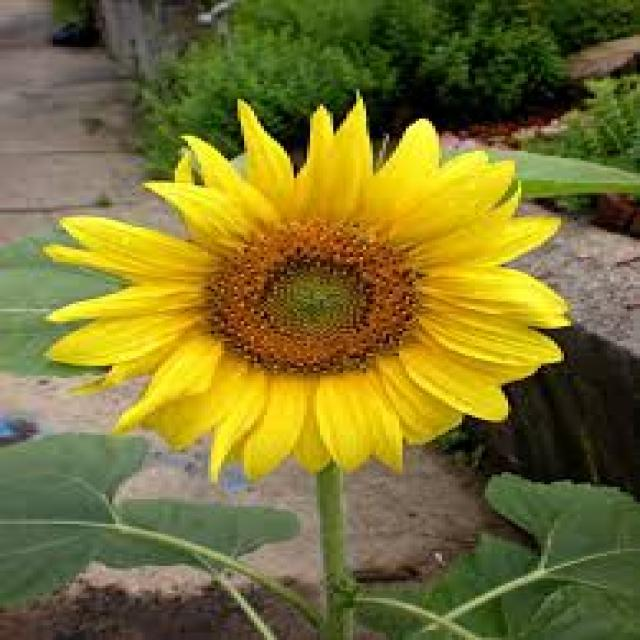sunflower: (30, 85, 588, 492)
